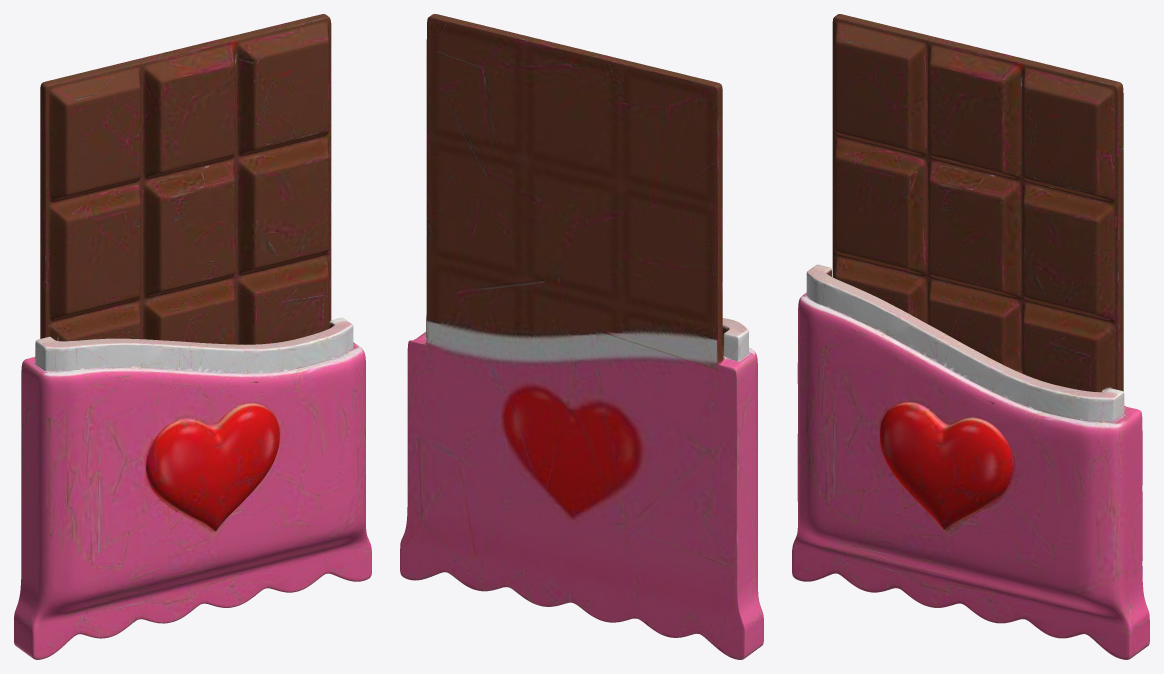
The picture shows the model from 3 angles, left to right: view 1: azimuth 30°, elevation 25°; view 2: azimuth 150°, elevation 25°; view 3: azimuth 330°, elevation 25°; orthographic projection.
Size of the model in its own units: 1.21 by 1.9 by 0.2493.
1 material, 1 textured.
